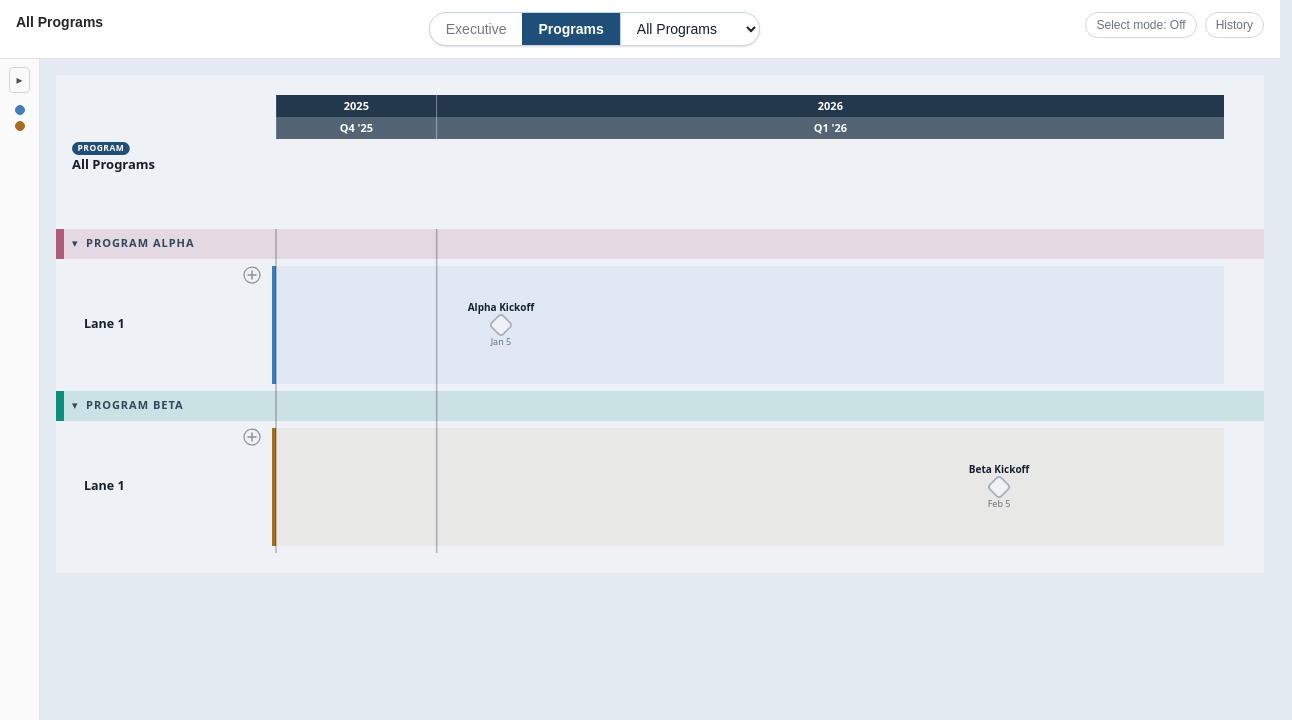
Test case: AllProgramsPage — New Program (wayframe UX-2026-09-18 §7) › POSTs a schema-complete empty document and refetches, leaving the new Program in the rail rather than navigating away
This screenshot has width=1292, height=720.
Click the button named "Open the Programs rail".
click(20, 80)  # box [10,67,30,93]
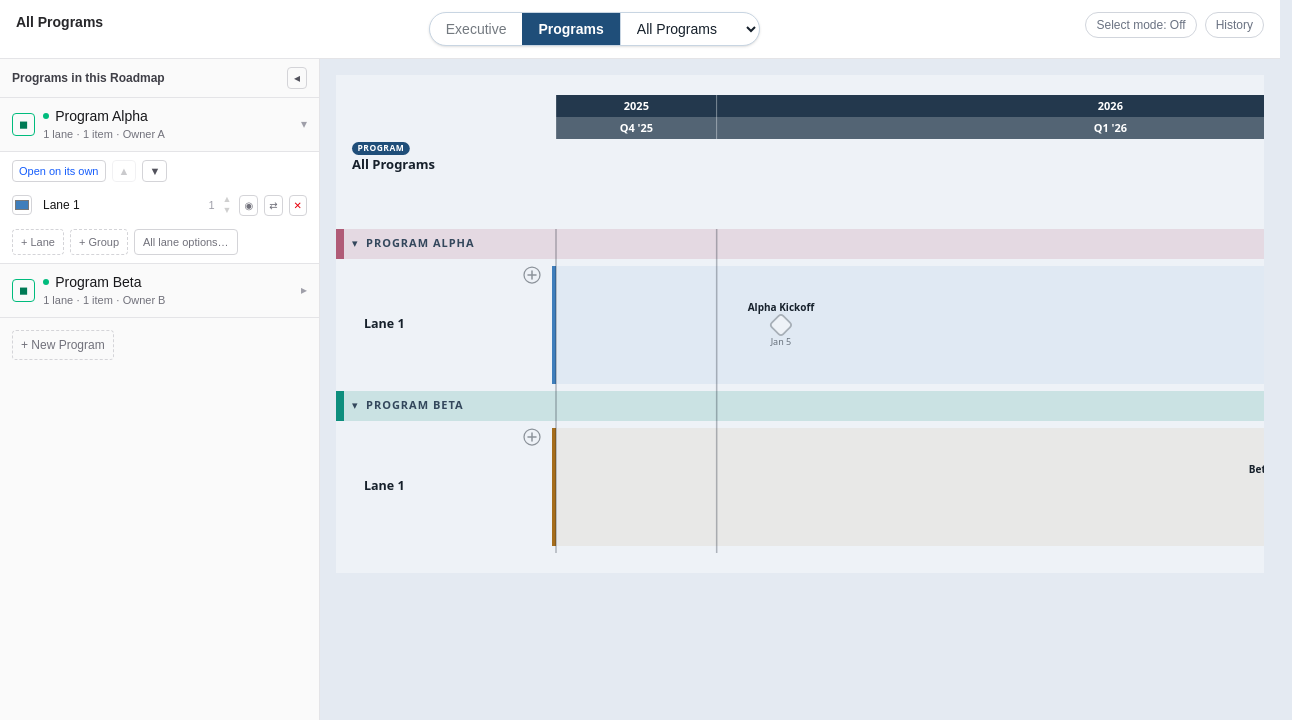
Click the button "+ New Program".
click(63, 344)  # box [12,330,114,360]
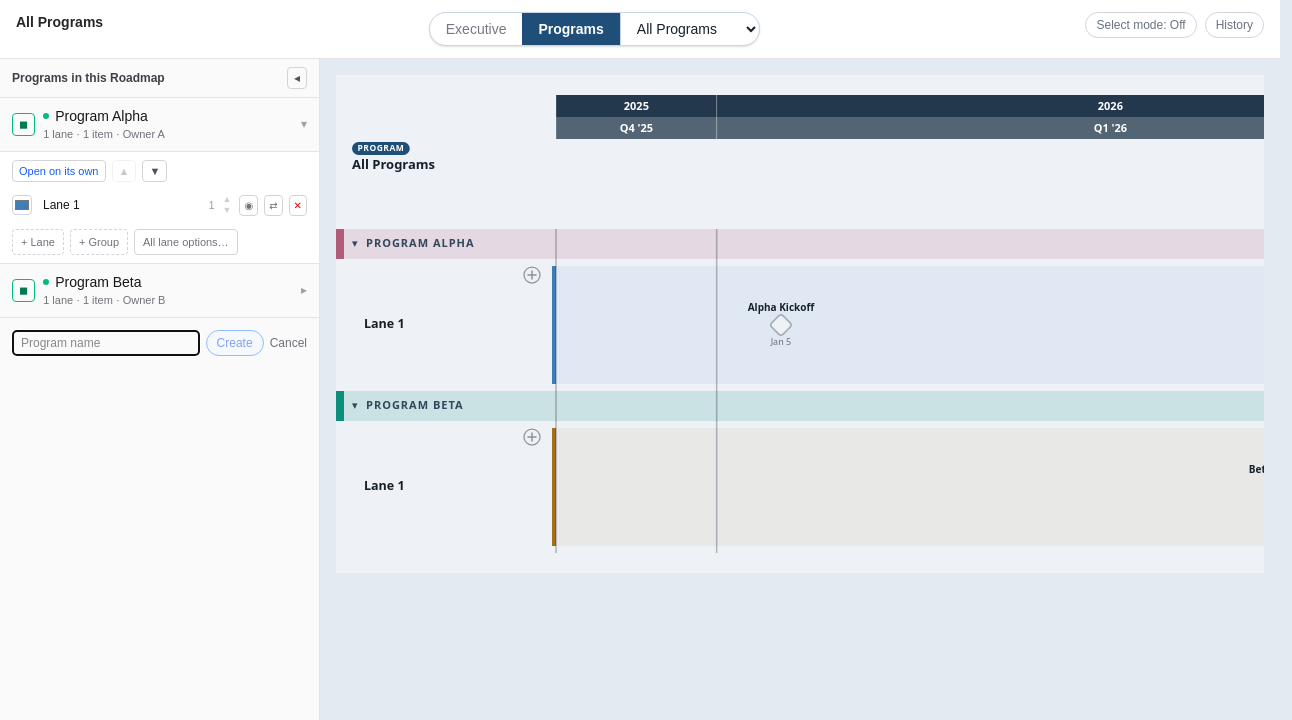
Type "Q3 Launch" into the field named "New Program name".
click(106, 342); type("Q3 Launch")  # box [12,330,200,356]
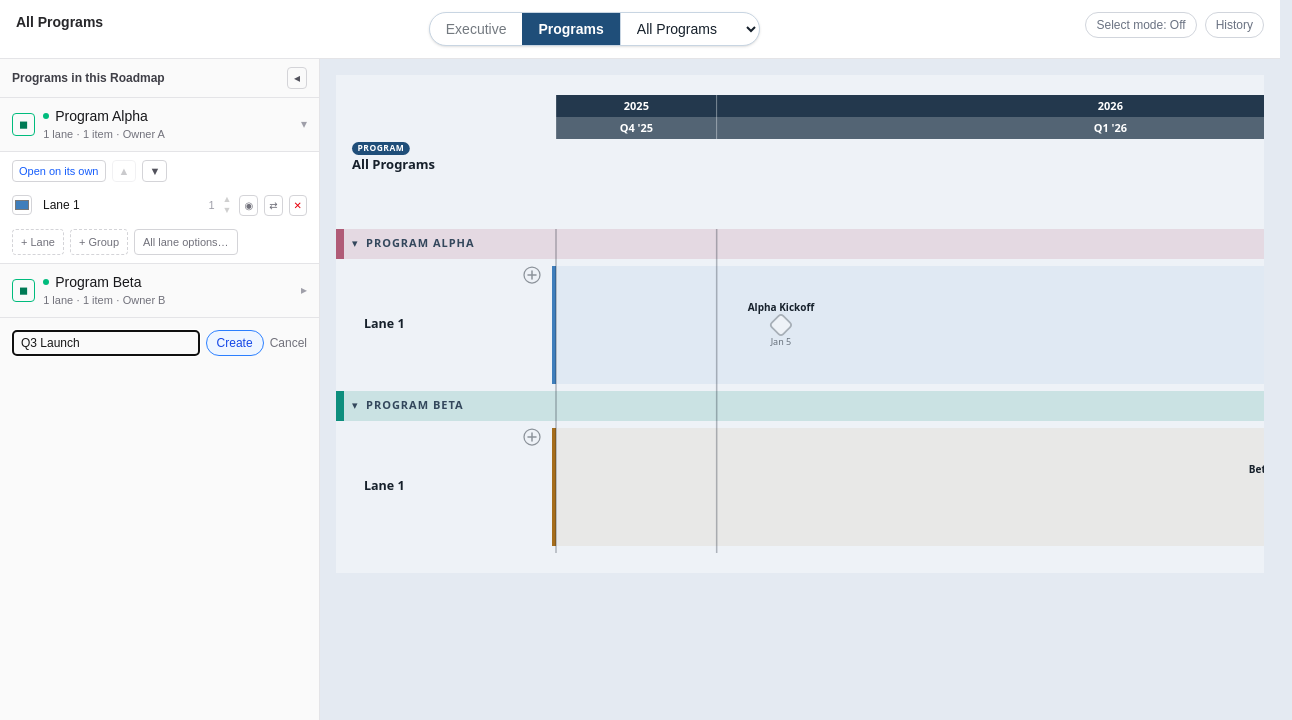
Click the button "Create".
click(235, 342)  # box [206,330,264,356]
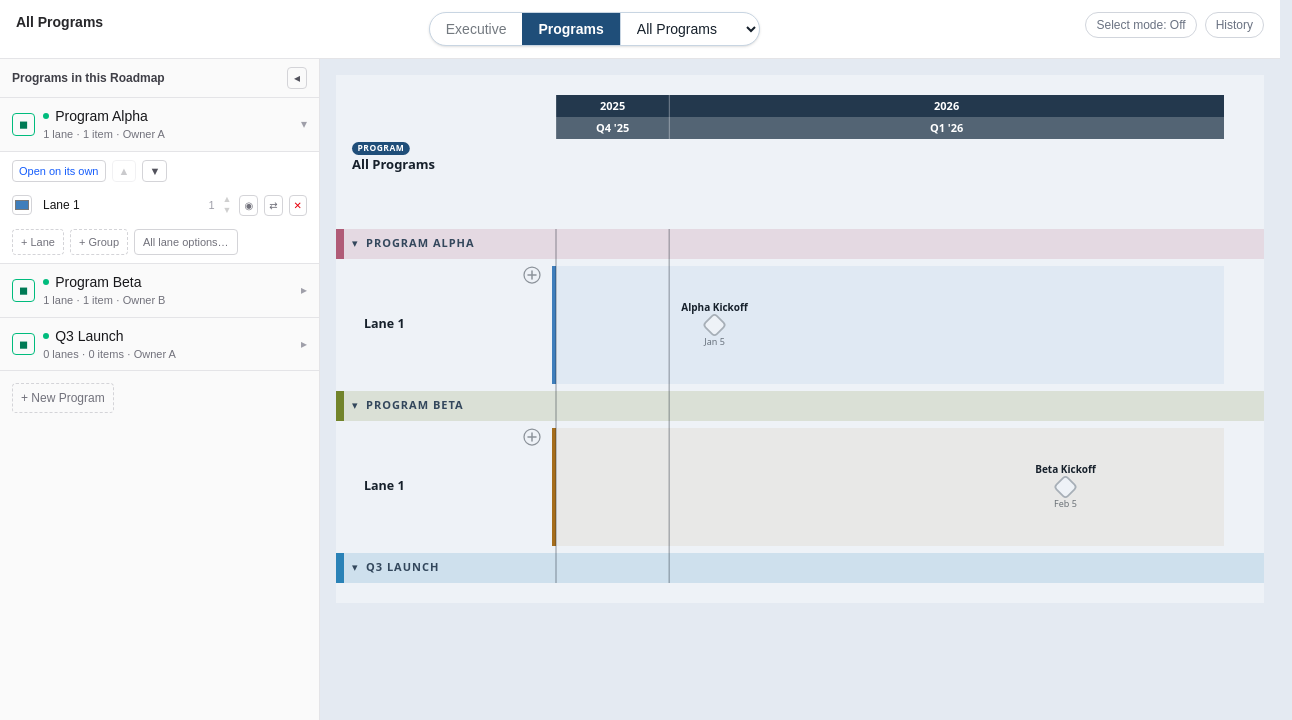
Result: the text "Q3 Launch" is shown at [55,326,124,346]
